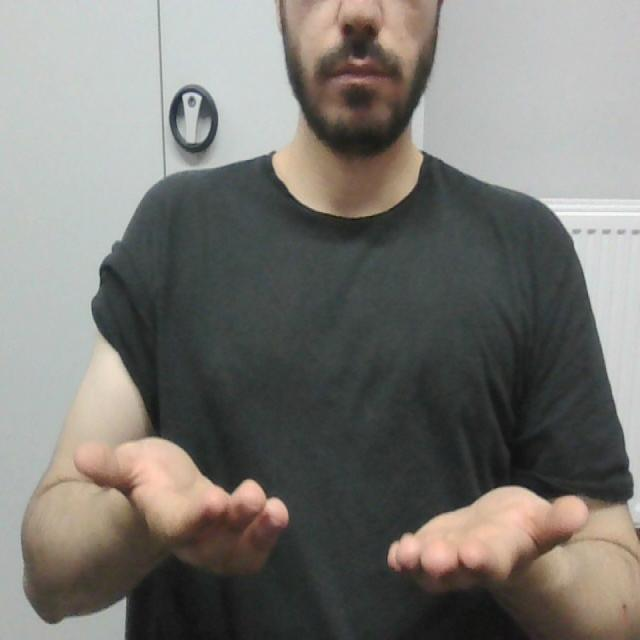Evet: (69, 428, 594, 603)
